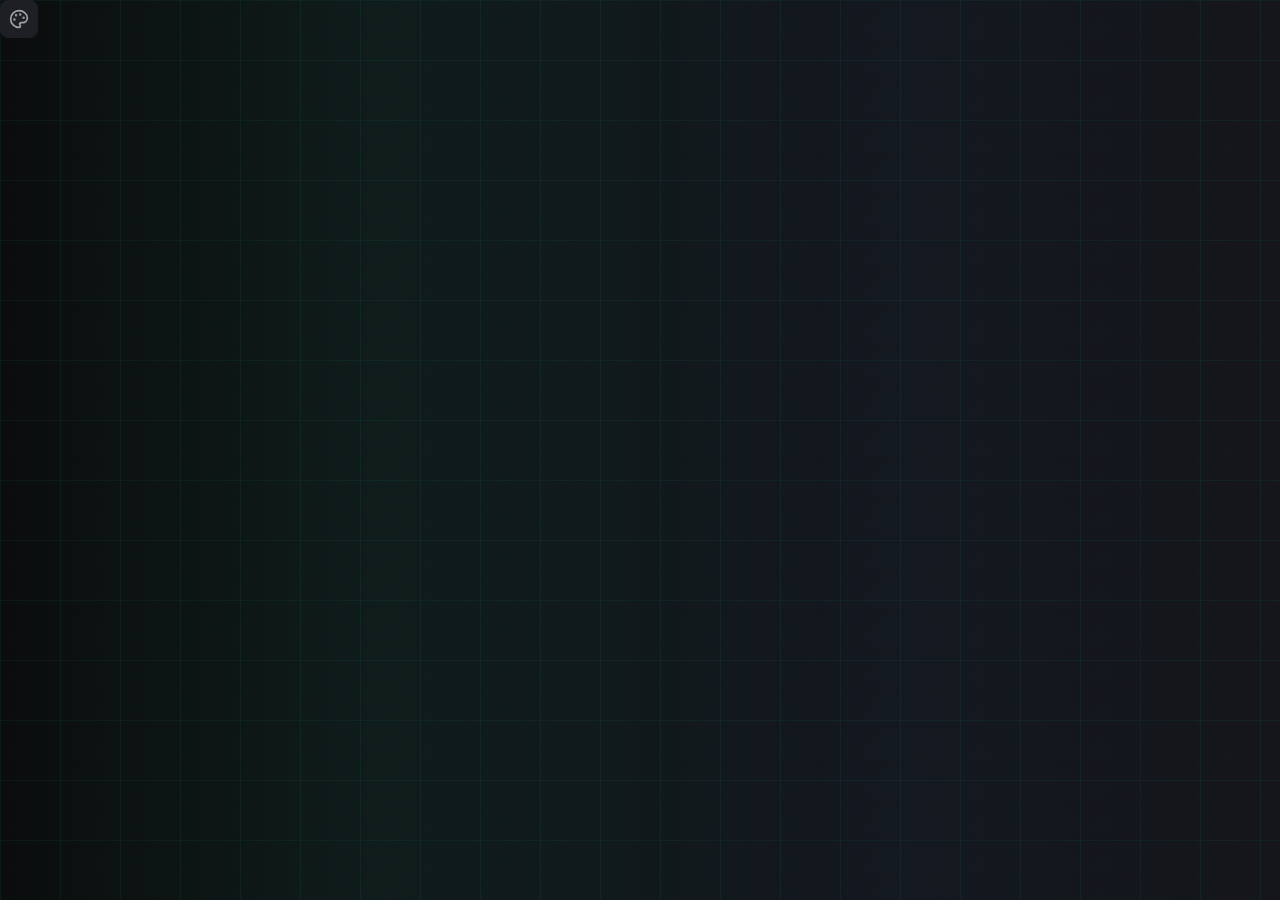
Test: ThemeSwitcher › opens dropdown when clicked
The image size is (1280, 900).
Click the button named "toggle theme switcher" at (19, 19), box x1=0 y1=0 x2=38 y2=38
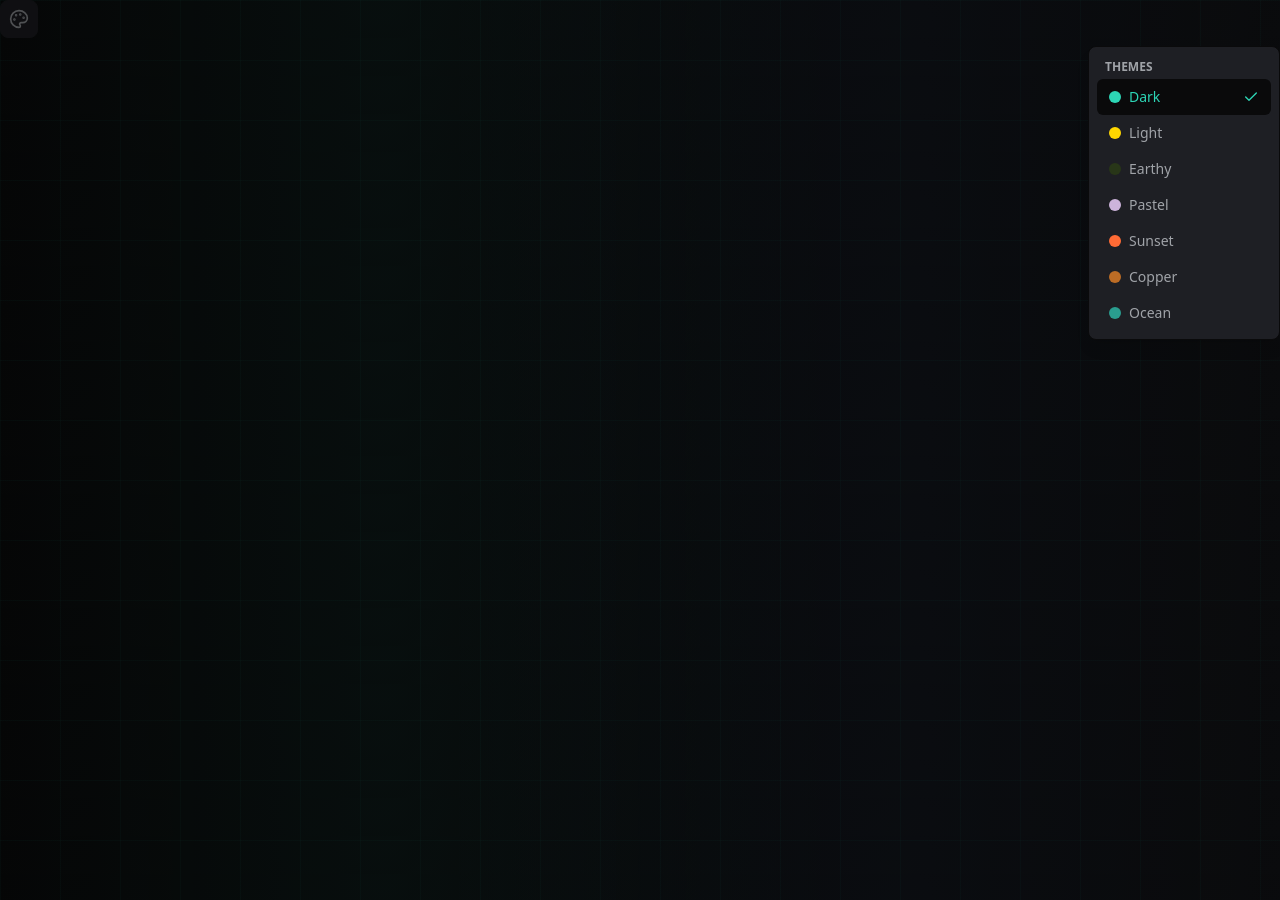
Check: the text "THEMES" is shown, box x1=1105 y1=58 x2=1152 y2=75
Check: the text "Dark" is shown, box x1=1109 y1=87 x2=1160 y2=107
Check: the text "Light" is shown, box x1=1109 y1=123 x2=1162 y2=143
